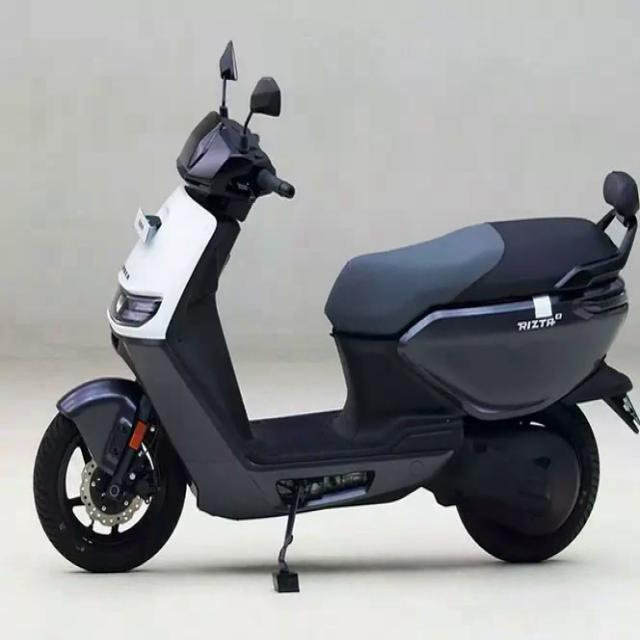objects: (14, 30, 640, 605)
